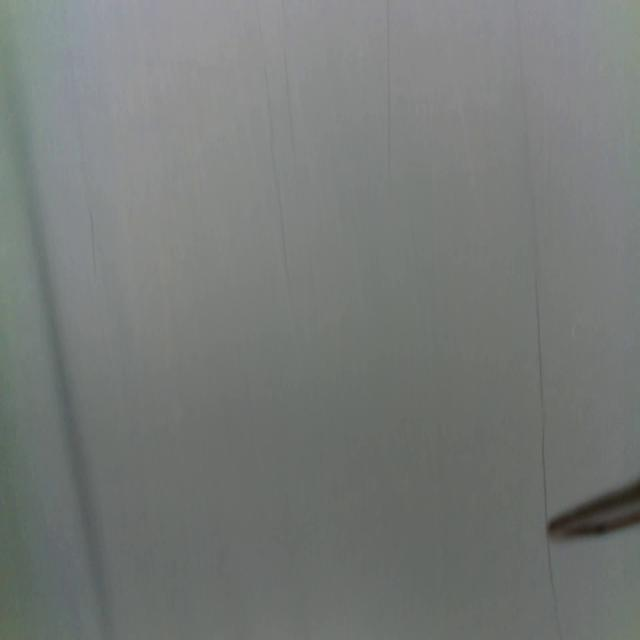crease: (254, 0, 289, 282), (64, 10, 98, 274), (533, 279, 556, 612), (280, 0, 295, 152), (386, 0, 394, 175)
